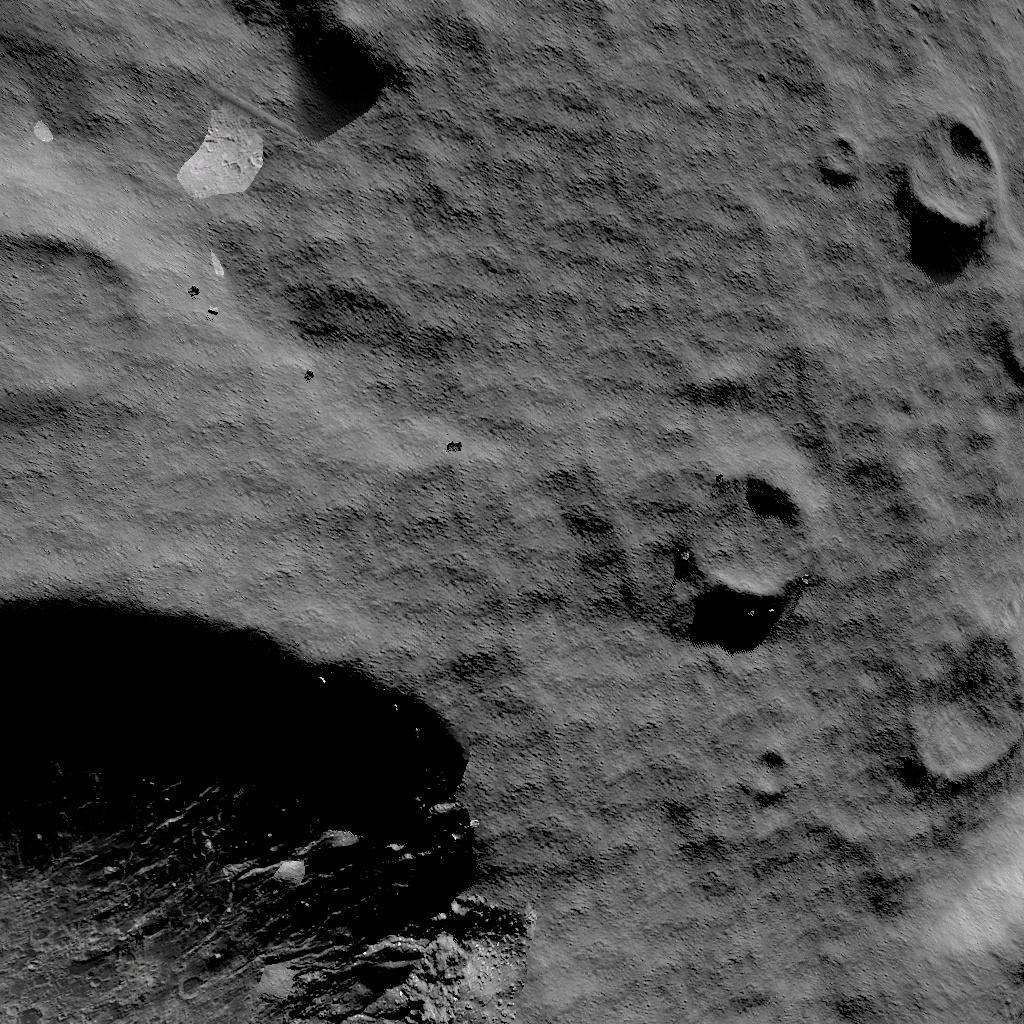Boulders: (166, 78, 277, 184)
Crater: (0, 510, 527, 1024), (0, 194, 143, 426), (668, 434, 823, 600), (866, 621, 1024, 778), (903, 72, 1018, 250), (732, 718, 795, 786), (822, 90, 875, 168)
Plan surface: (464, 0, 811, 276), (546, 830, 953, 1024)
